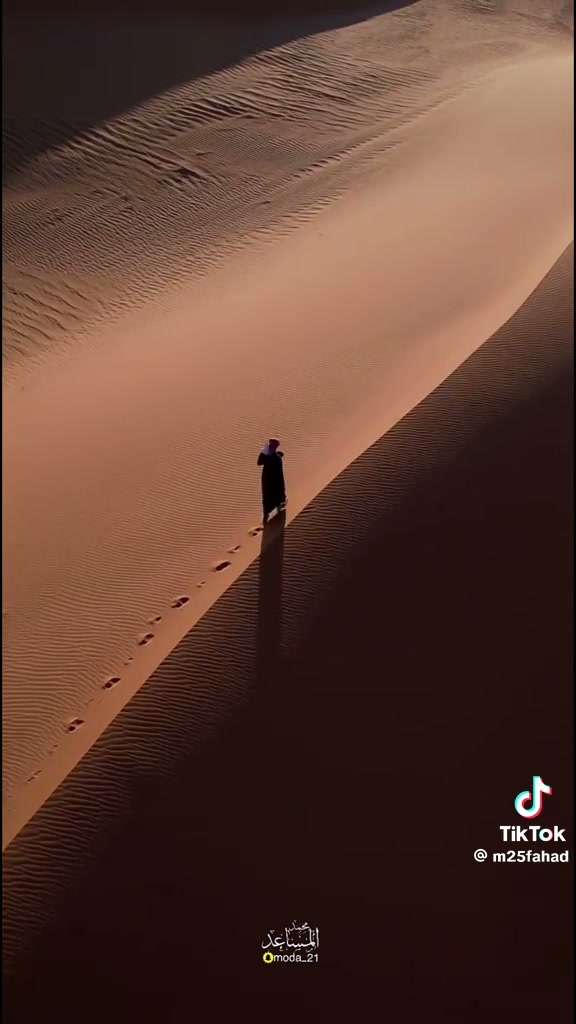human_foot_print: (248, 503, 286, 538), (65, 716, 84, 733), (210, 559, 231, 572), (211, 559, 230, 572), (67, 717, 83, 732), (171, 595, 189, 608), (103, 676, 120, 689), (138, 632, 153, 646), (212, 560, 230, 571), (26, 769, 40, 783), (249, 524, 264, 537), (48, 743, 59, 757), (148, 614, 161, 625), (278, 499, 287, 511), (228, 544, 240, 553), (124, 656, 133, 666), (197, 580, 206, 589)
